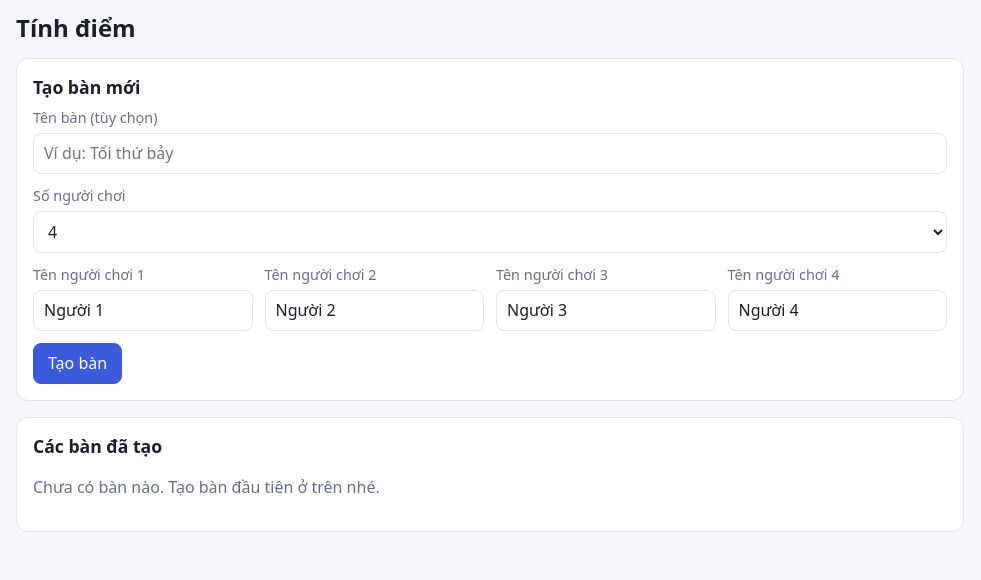
Test: HomePage › shows the server error under the form and stays on the page
Expected: the text "Chưa có bàn nào. Tạo bàn đầu tiên ở trên nhé." is shown, [33,476,380,498]
Clear the field labelled "Tên người chơi 2": (374,311) [264,290,484,331]
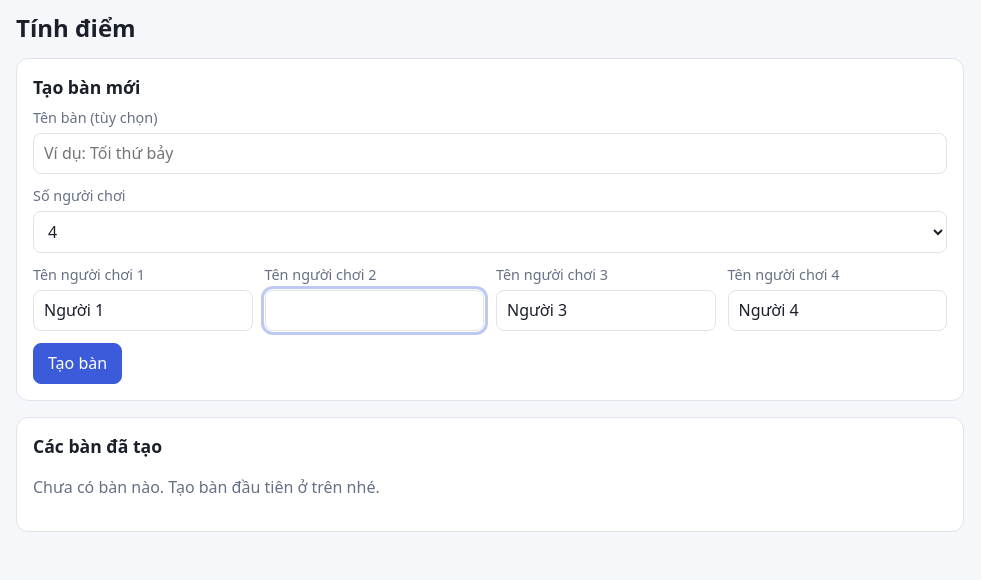
Click the button "Tạo bàn": (78,364) [33,343,122,384]
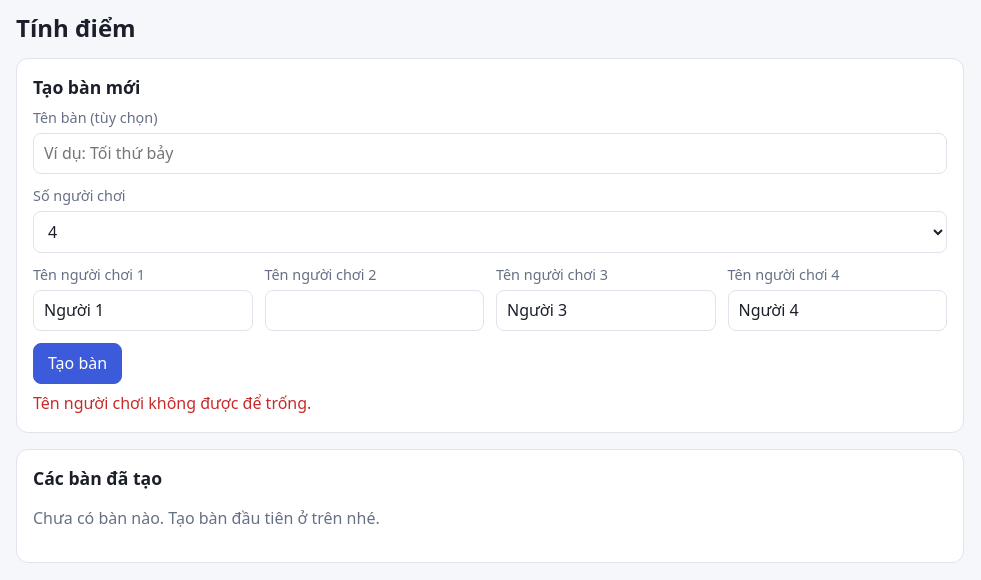
Expected: the message reads "Tên người chơi không được để trống.", [33,392,311,414]
